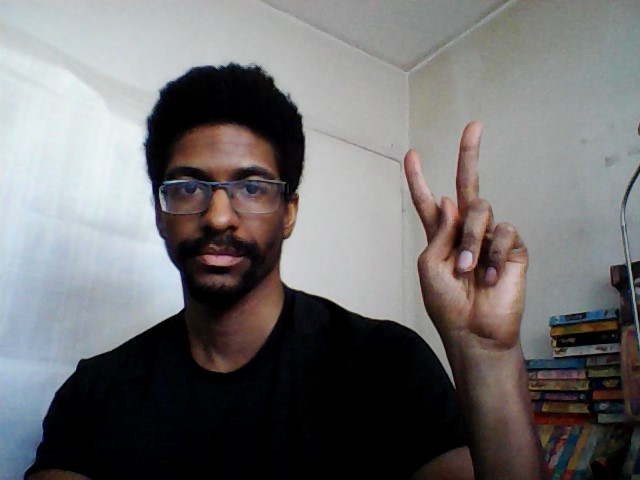k: (396, 113, 536, 351)
